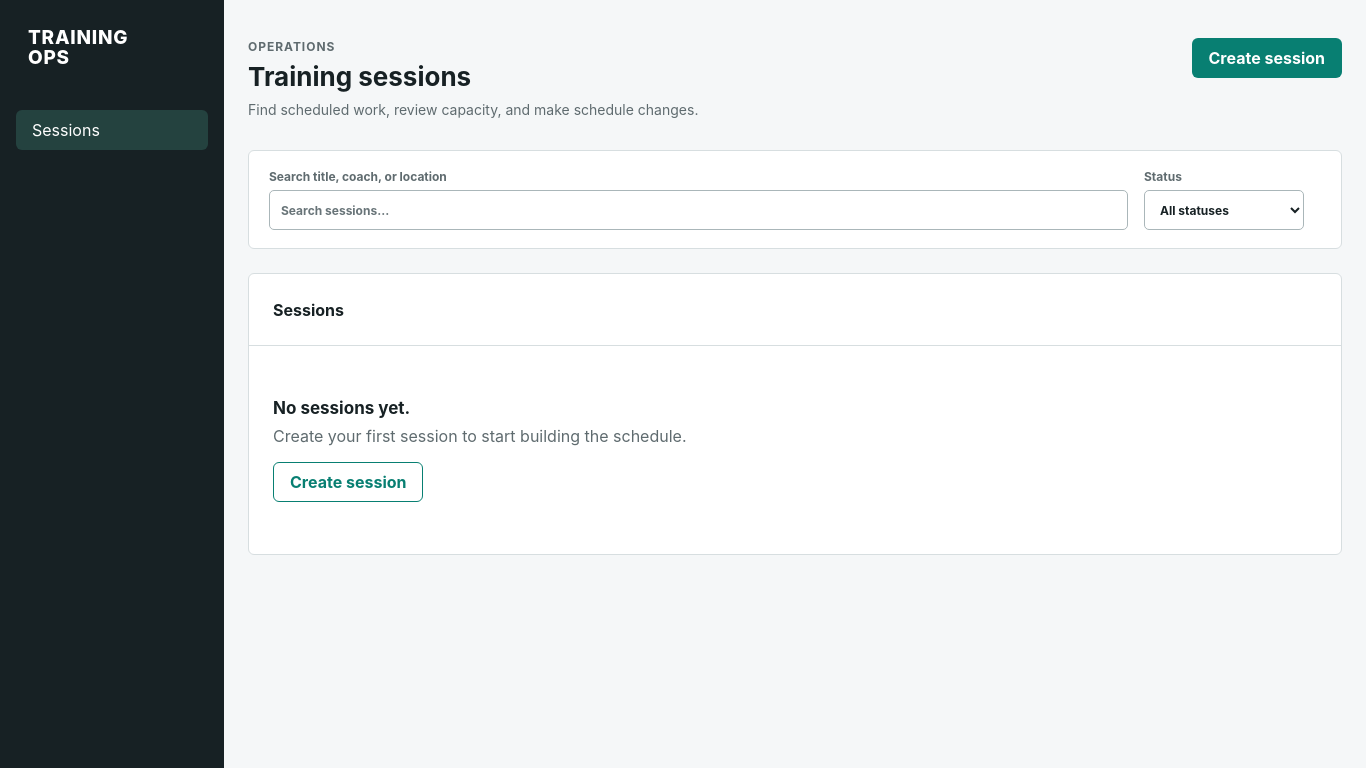
Test case: TrainingSessionsPage › shows the list error when refreshing an empty successful list fails
Check: the heading "No sessions yet." is shown, box [273,398,410,418]
Step 1. Type "updated" into the search field labelled "Search title, coach, or location" → (698, 210), box [269,190,1128,230]
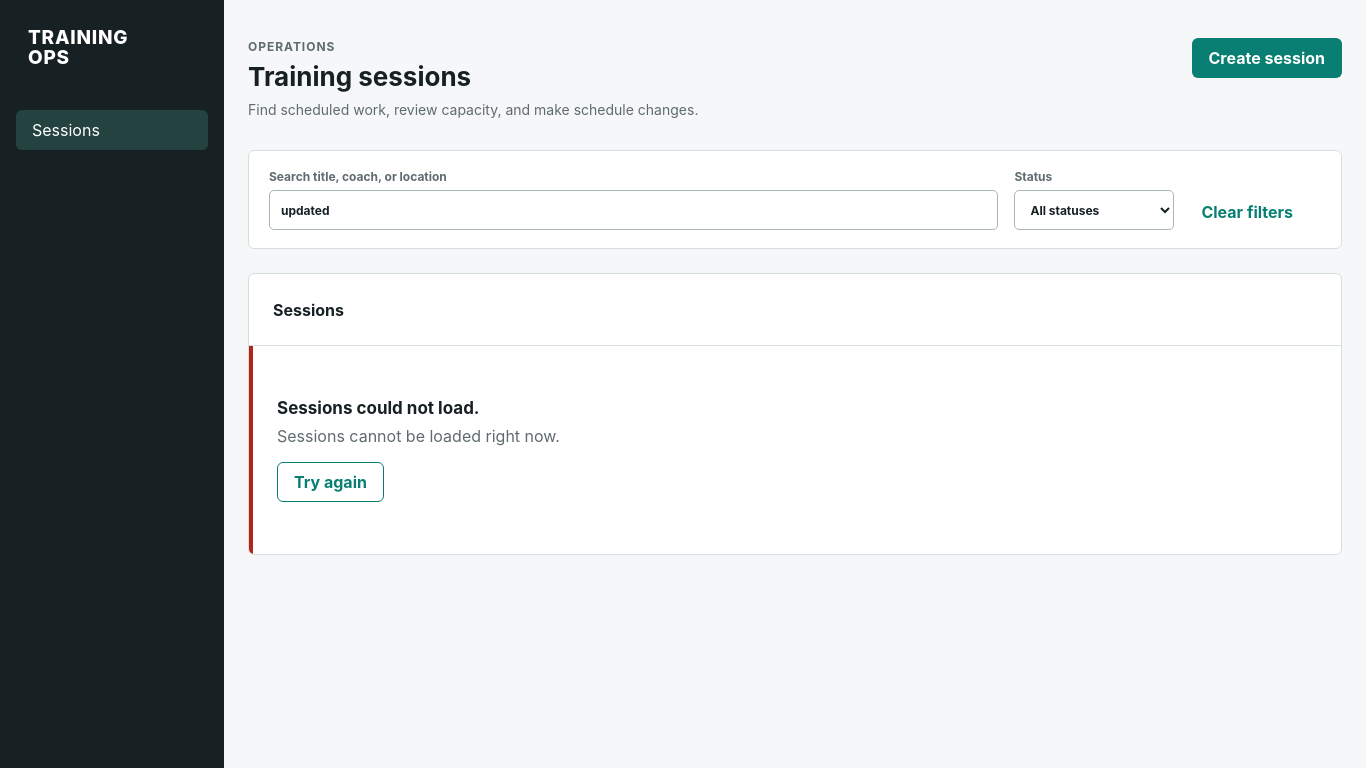
Check: the heading "Sessions could not load." is shown, box [277,398,480,418]
Check: the button "Try again" is shown, box [277,462,384,502]
